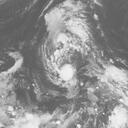cyclone: (42, 4, 112, 91)
